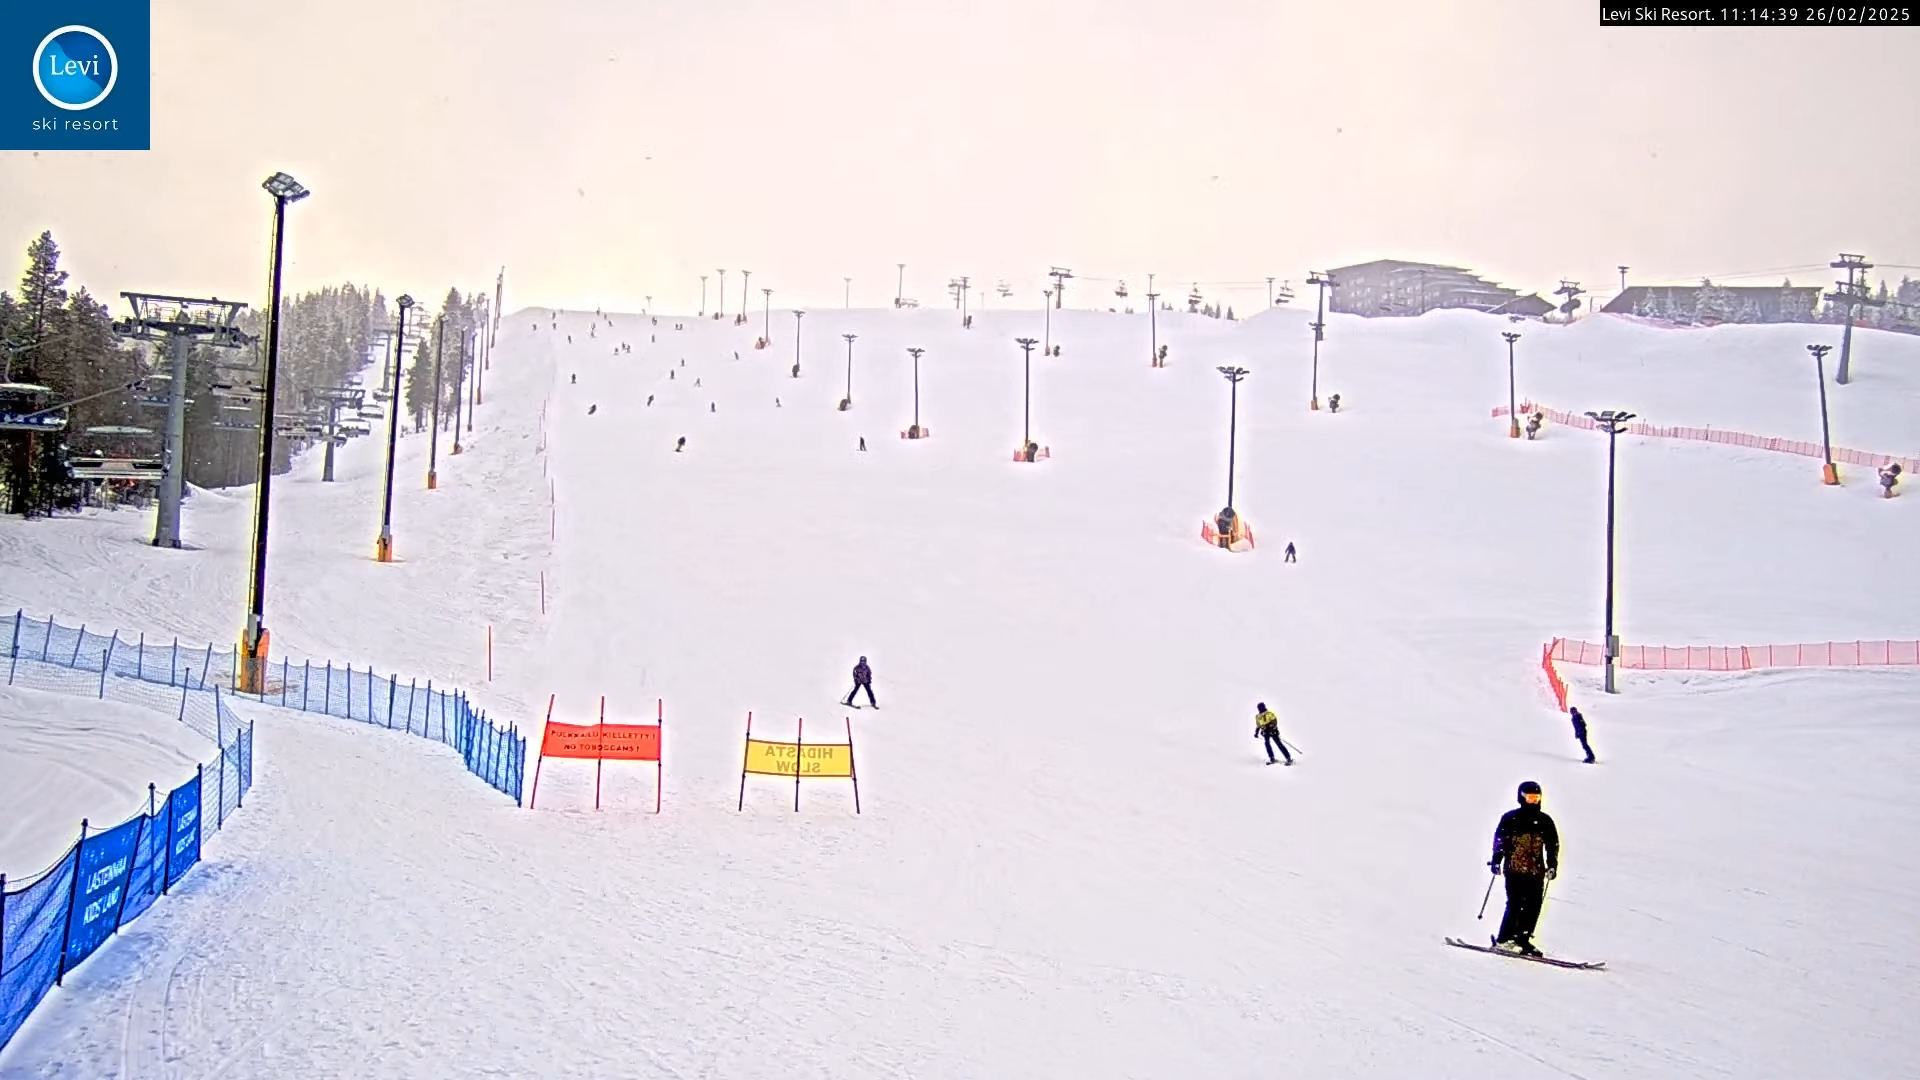skier: (1445, 778, 1609, 976), (1246, 698, 1299, 767), (840, 653, 880, 712)
snowboarder: (1565, 705, 1601, 765)
